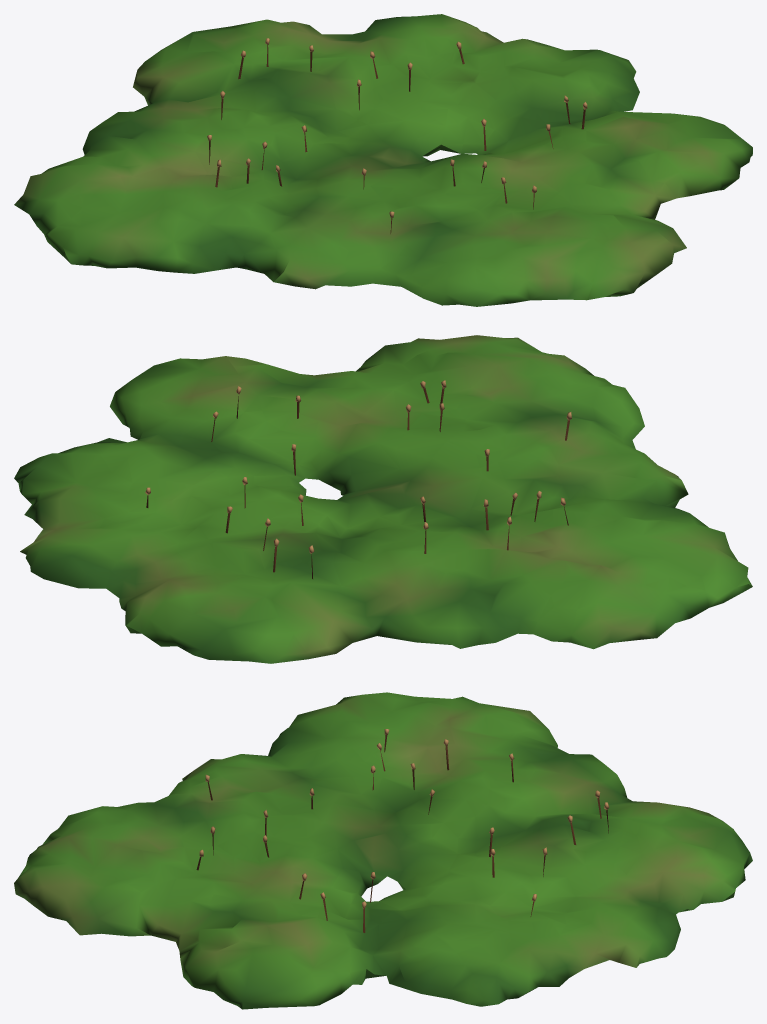
Rendered from canopy_gc_moss_c.glb.
3 views of the same model, one above another, from view 1: azimuth 30°, elevation 25°; view 2: azimuth 150°, elevation 25°; view 3: azimuth 270°, elevation 25° (orthographic). The views are drawn at different scales.
Visible parts, largest first — view 1: canopy_gc_moss_c; view 2: canopy_gc_moss_c; view 3: canopy_gc_moss_c.
Boxes of the visible parts, left/top/right/bottom form: canopy_gc_moss_c: left=14, top=14, right=752, bottom=306; canopy_gc_moss_c: left=14, top=335, right=752, bottom=663; canopy_gc_moss_c: left=14, top=692, right=752, bottom=1009.
Bounding box in the file's own units: 10.38 × 1.06 × 10.6.
